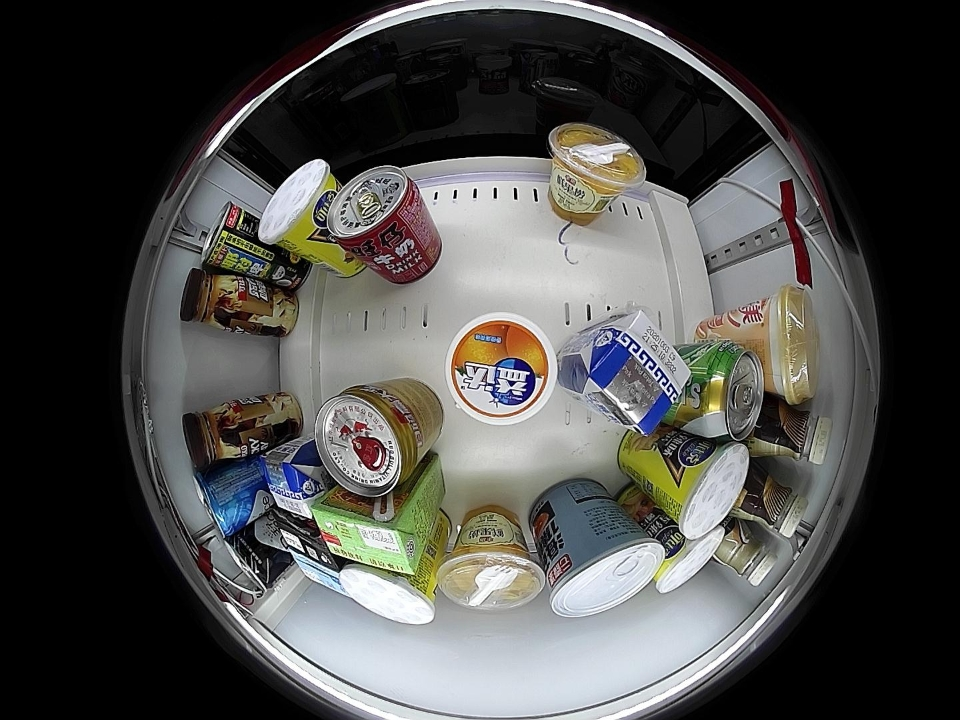anmuxi: (596, 307, 694, 432), (260, 450, 320, 519)
haitai: (547, 520, 664, 619)
hongniu: (315, 385, 424, 498)
kafei: (736, 467, 809, 538), (757, 404, 832, 466), (714, 522, 781, 587)
kebike: (666, 440, 748, 542), (259, 159, 337, 249), (339, 562, 437, 625), (652, 525, 725, 595)
lujikafei: (183, 399, 251, 471), (180, 268, 249, 332)
qingdaowangzi-1: (224, 529, 284, 587)
qingdaowangzi-2: (193, 465, 254, 537)
quchenshixiangcao: (697, 345, 765, 441)
wanglaoji: (311, 493, 423, 575)
wangzainiunai: (329, 166, 423, 257)
weitanai2: (268, 508, 338, 570)
weitanaiditang: (287, 550, 349, 598)
xianguolao: (436, 538, 546, 611), (546, 124, 646, 201)
yezhi: (200, 201, 248, 268)
yida: (446, 314, 556, 425)
youlemei: (759, 286, 818, 404)
